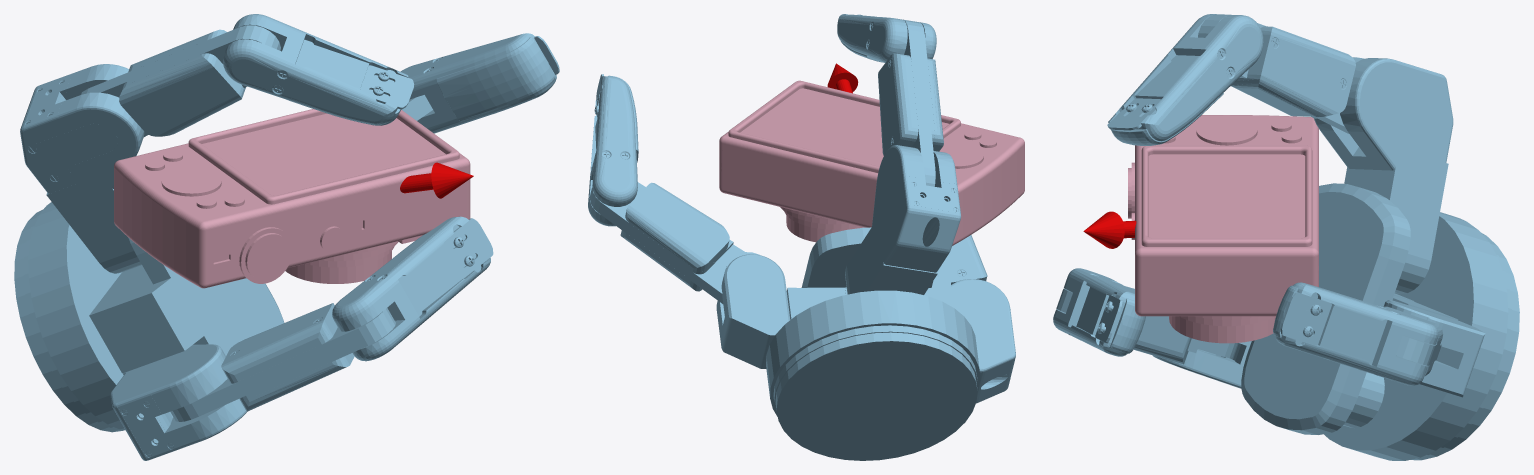
The picture shows the model from 3 angles, left to right: view 1: azimuth 30°, elevation 25°; view 2: azimuth 150°, elevation 25°; view 3: azimuth 270°, elevation 25°; orthographic projection. The views are drawn at different scales.
Parts seen in each view (by area): view 1: world, camera.stl; view 2: world, camera.stl; view 3: world, camera.stl.
Part boxes in pixels (bbox=[...]): world: bbox=[14, 14, 559, 460]; camera.stl: bbox=[114, 109, 470, 288]; world: bbox=[588, 14, 1015, 460]; camera.stl: bbox=[719, 80, 1024, 245]; world: bbox=[1053, 14, 1519, 460]; camera.stl: bbox=[1128, 115, 1318, 343].
Size of the model in its own units: 0.2031 by 0.1785 by 0.1641.
